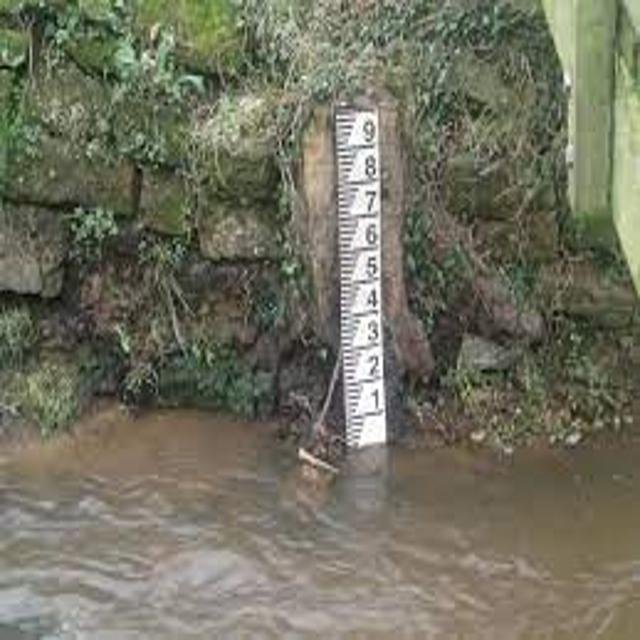ruler: (326, 101, 404, 458)
value: (359, 254, 384, 282), (364, 316, 384, 348), (364, 352, 386, 381), (360, 152, 382, 180), (362, 220, 382, 248), (360, 187, 379, 216), (364, 286, 384, 310), (369, 386, 385, 416), (360, 118, 377, 145)
